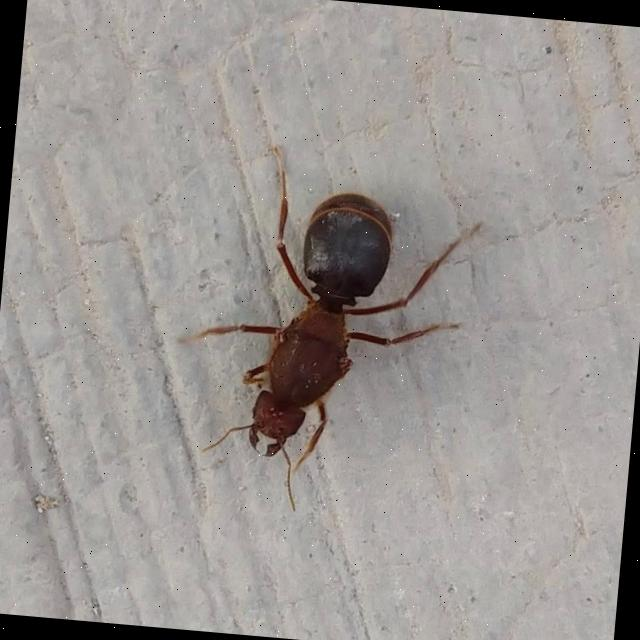Alive-Female-Dealate: (164, 140, 486, 527)
